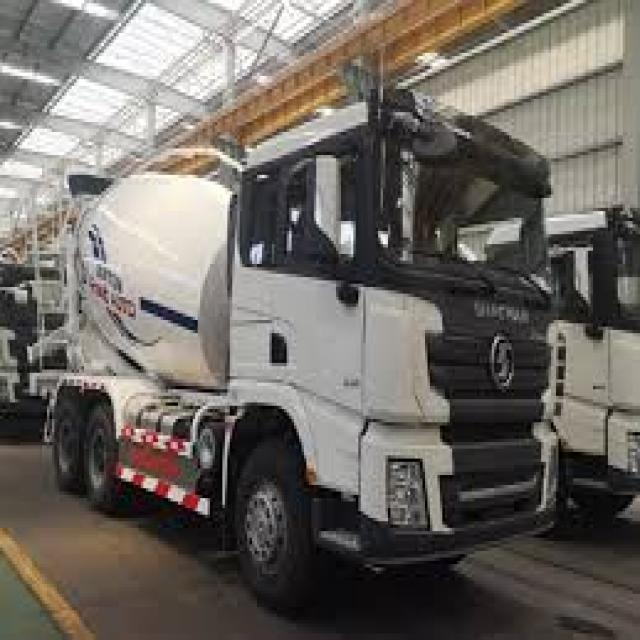Mixer Truck: (27, 82, 561, 627), (454, 204, 640, 534)
